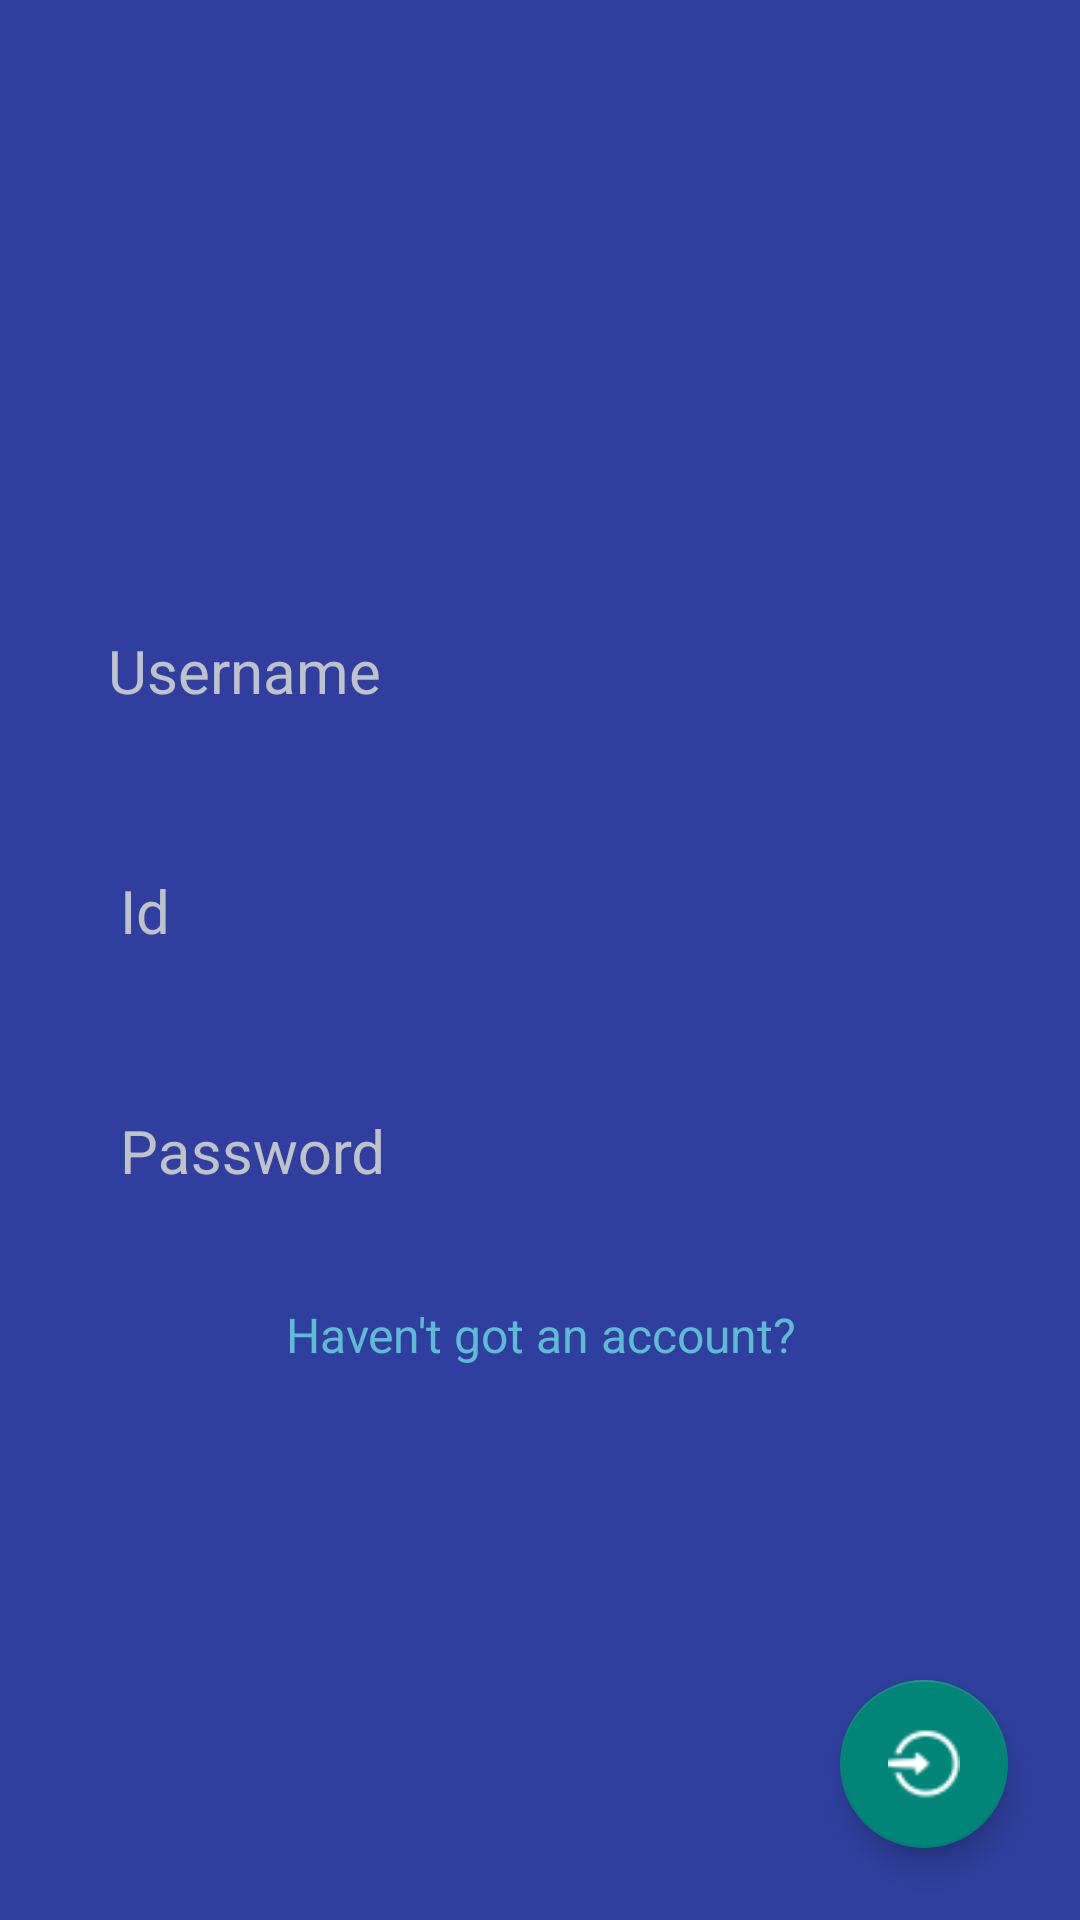

Named icons in this screenshot (1080×1920) and their centers, (x,y):
login: (924,1764)
